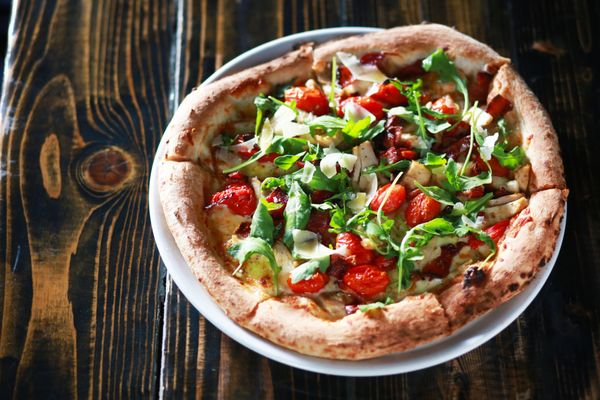sandwich: (155, 24, 564, 360)
